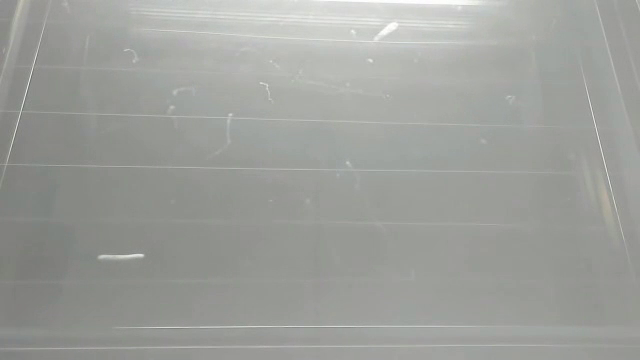alpha: (372, 20, 404, 43), (95, 250, 146, 264)
